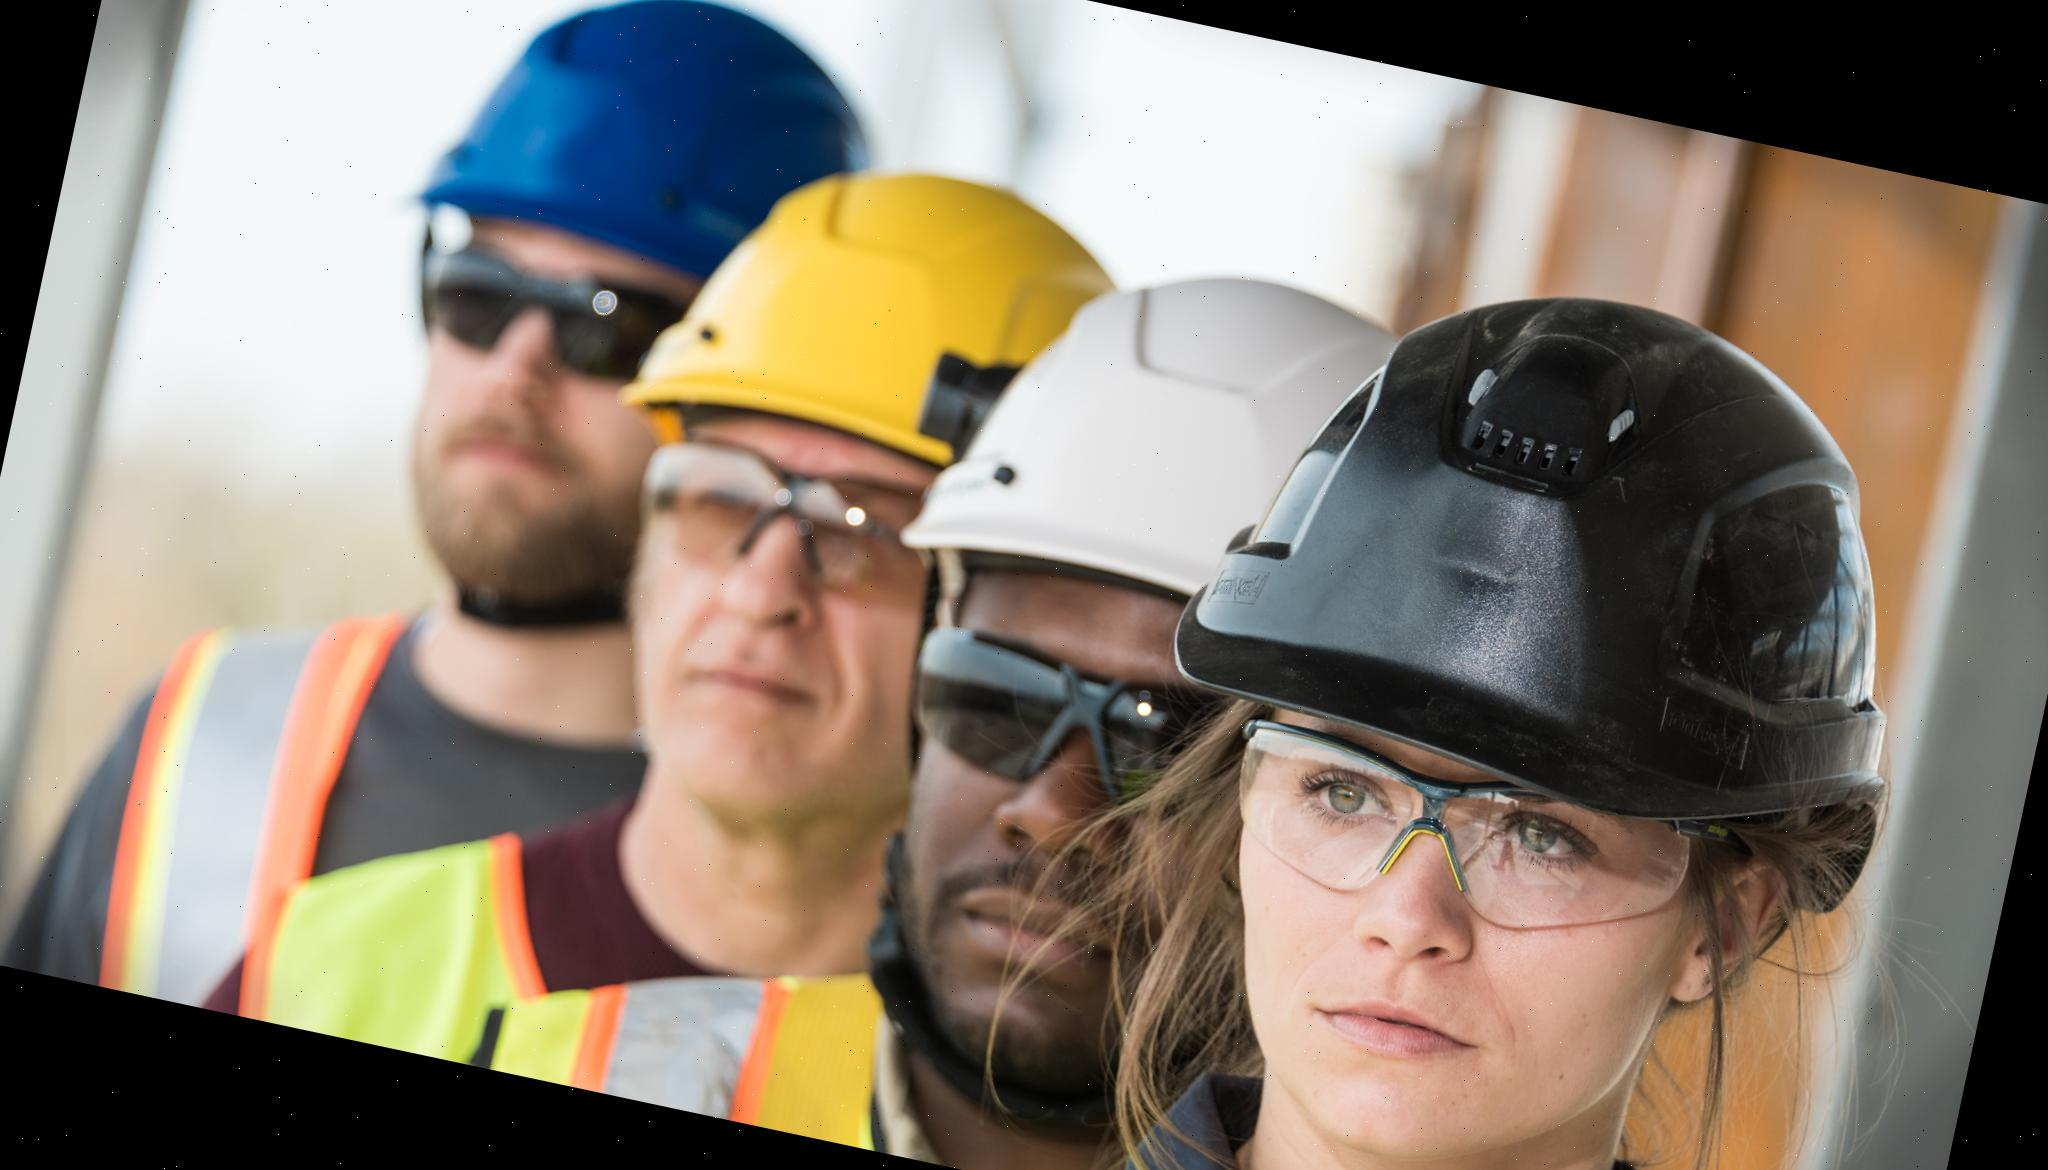helmet: (1142, 218, 1980, 930), (893, 205, 1408, 645), (616, 114, 1127, 509), (408, 0, 895, 302)
wear: (0, 588, 595, 1074), (210, 779, 798, 1124), (461, 953, 1158, 1170)
